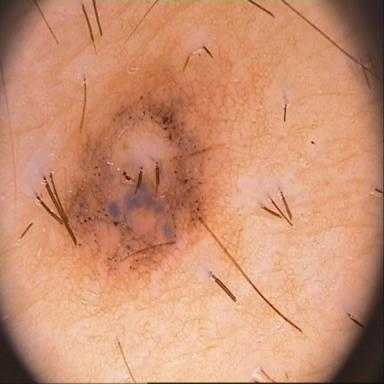nevus: (65, 80, 223, 279)
